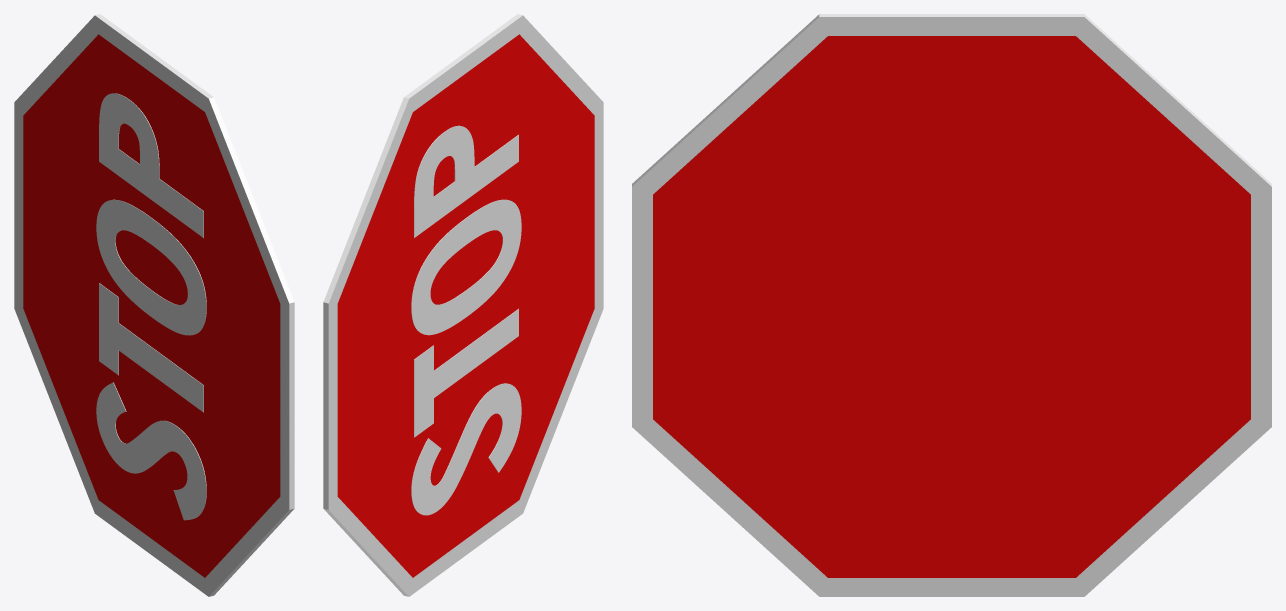
File: newstopsign.fbx
3 renders of one model, left to right at view 1: azimuth 30°, elevation 25°; view 2: azimuth 150°, elevation 25°; view 3: azimuth 270°, elevation 25°, orthographic. The views are drawn at different scales.
Parts seen in each view (by area): view 1: Sign; view 2: Sign; view 3: Sign.
Boxes of the visible parts, x1=… form: Sign: x1=14, y1=14, x2=294, y2=596; Sign: x1=323, y1=14, x2=603, y2=596; Sign: x1=632, y1=14, x2=1271, y2=596.
Bounding box in the file's own units: 0.2706 × 22.17 × 22.17.
